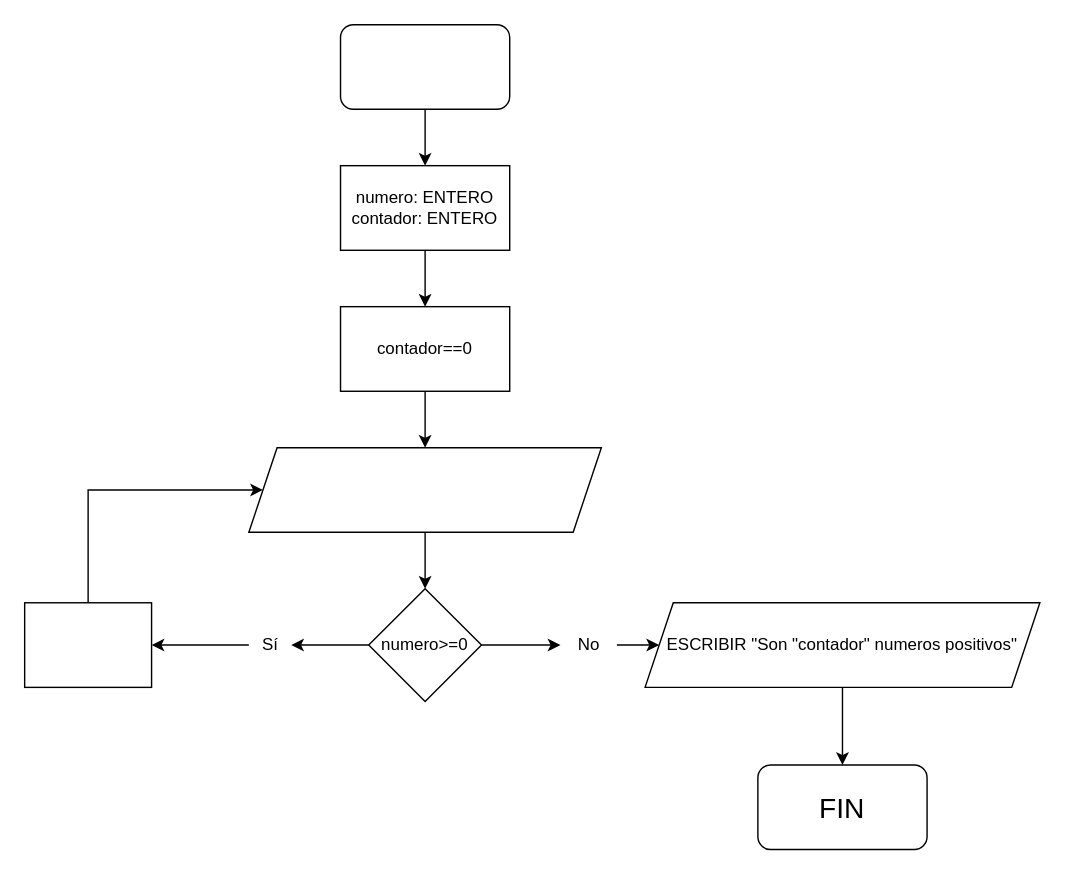
Image size: 1065x874. Some labels were removed from this diagram. The centre of each missing label's shape, as x and y in pixels:
contador++: point 87,644
ESCRIBIR "Introduzca un numero" LEER numero: point 424,489
INICIO: point 424,66
